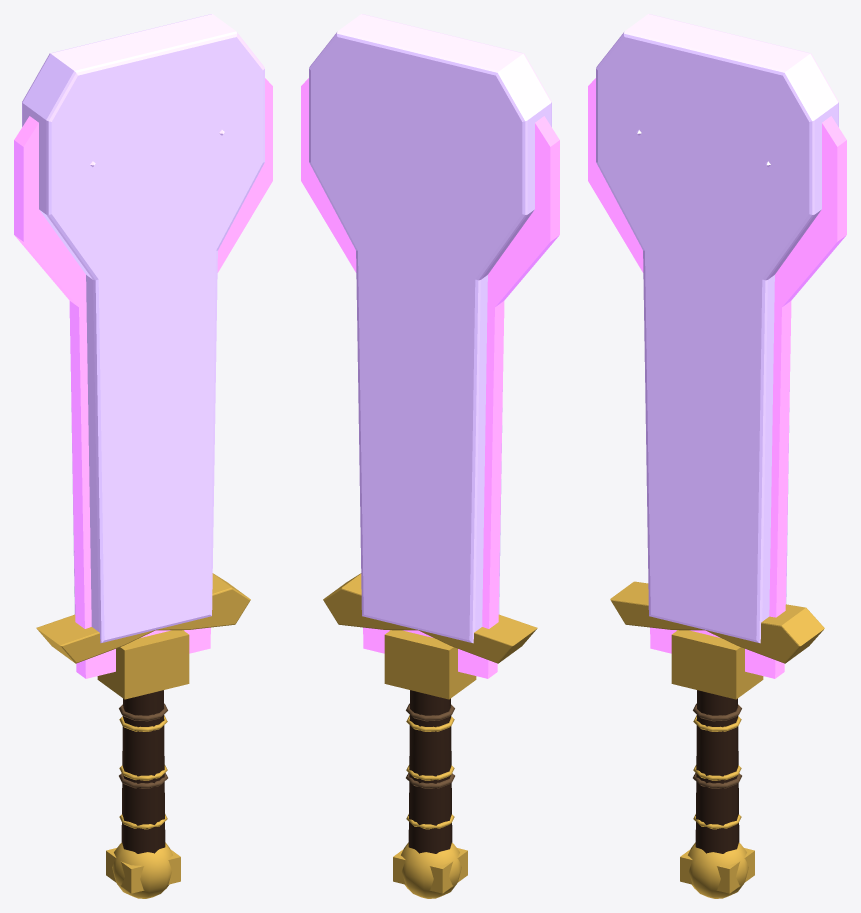
Rendered from greatsword_f1_5bb1439.glb.
3 renders of one model, left to right at view 1: azimuth 30°, elevation 25°; view 2: azimuth 150°, elevation 25°; view 3: azimuth 330°, elevation 25°, orthographic.
Parts seen in each view (by area): view 1: m3_ow80_, m0_, m4_ow80_, m2_ow80_, m5_ow80_; view 2: m3_ow80_, m0_, m4_ow80_, m2_ow80_, m5_ow80_; view 3: m3_ow80_, m0_, m4_ow80_, m2_ow80_, m5_ow80_.
Part boxes in pixels (<box>): m3_ow80_: <box>22,14,264,643</box>; m0_: <box>14,78,272,678</box>; m4_ow80_: <box>36,573,250,898</box>; m2_ow80_: <box>121,690,165,853</box>; m5_ow80_: <box>119,703,167,788</box>; m3_ow80_: <box>309,14,551,643</box>; m0_: <box>301,78,559,678</box>; m4_ow80_: <box>323,573,537,898</box>; m2_ow80_: <box>408,690,452,853</box>; m5_ow80_: <box>406,703,454,788</box>; m3_ow80_: <box>596,14,838,643</box>; m0_: <box>588,78,846,678</box>; m4_ow80_: <box>610,581,824,898</box>; m2_ow80_: <box>695,690,739,853</box>; m5_ow80_: <box>693,703,741,788</box>.
Bounding box in the file's own units: 0.8496 × 2.78 × 0.1856.
